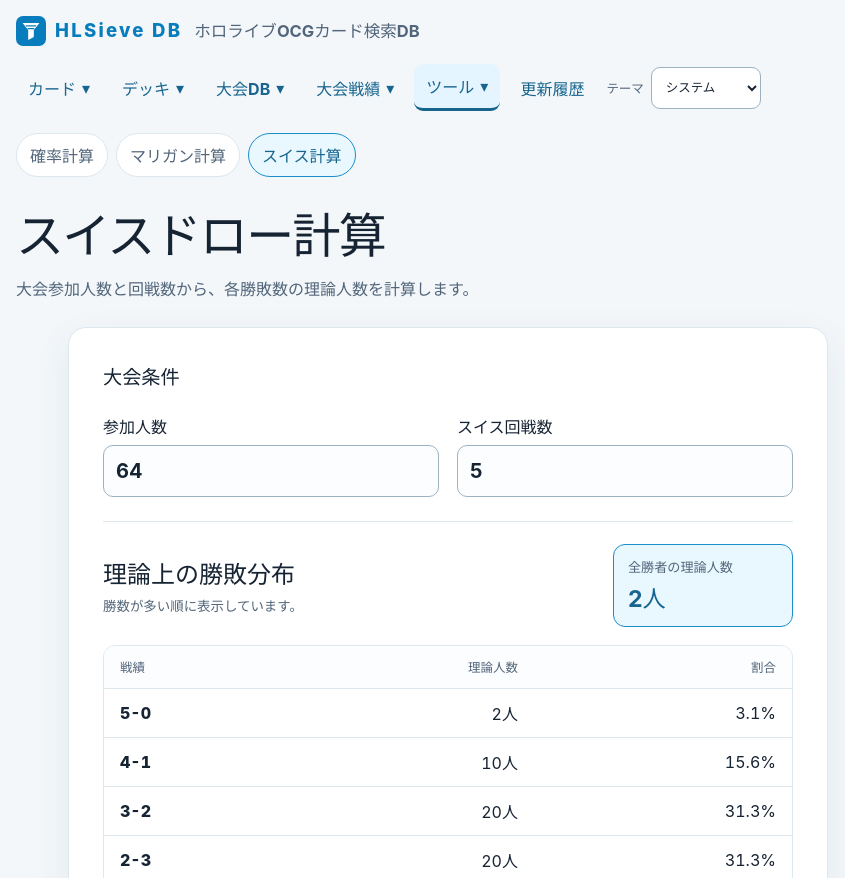
Test: SwissPage › hides results for invalid 参加人数 input
The image size is (845, 878).
Replace the text in the number field labelled "参加人数" with "1" at (271, 471), box [103, 445, 439, 497]
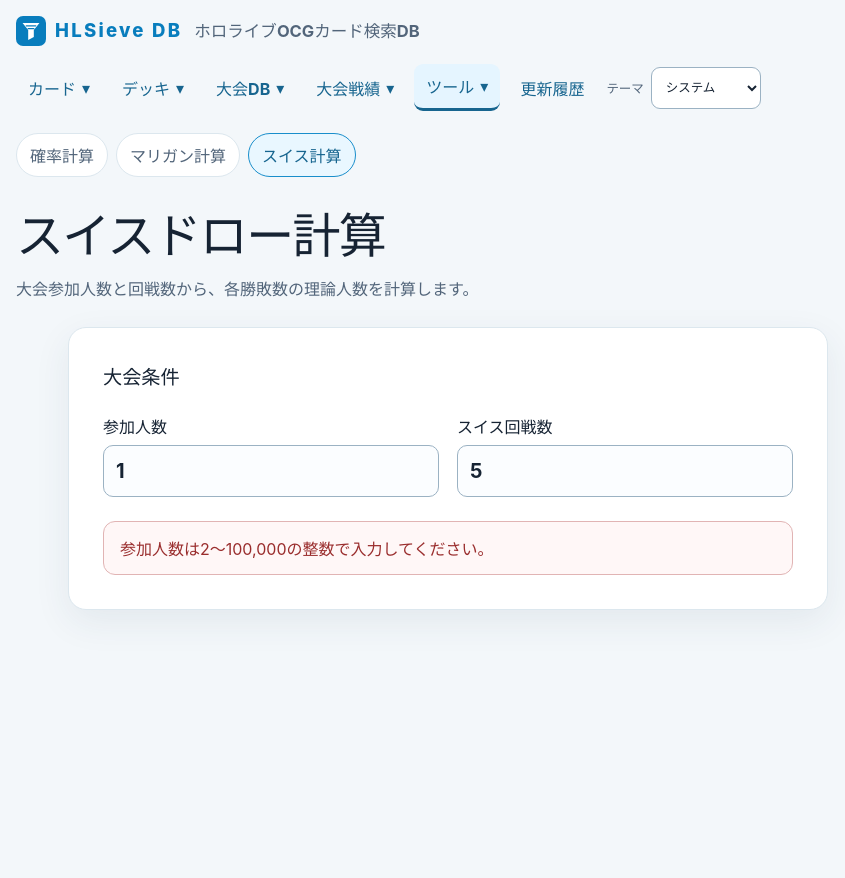
Expected: the message reads "参加人数は2〜100,000の整数で入力してください。", [120, 539, 494, 559]
